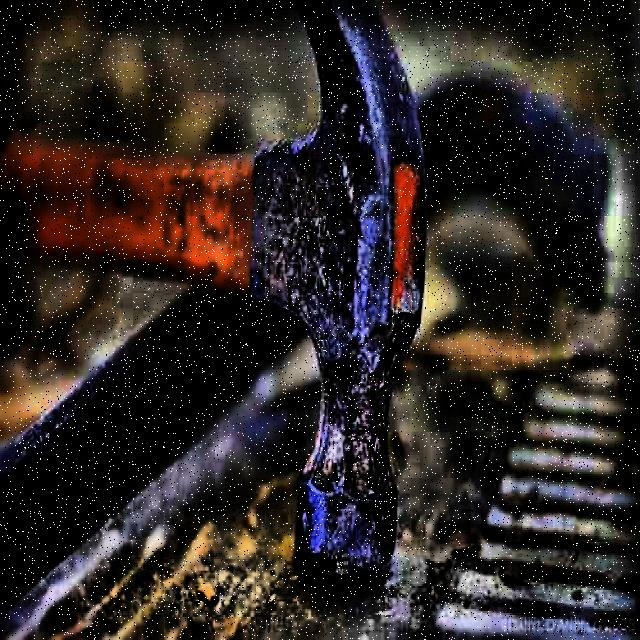hammer: (0, 4, 430, 584)
